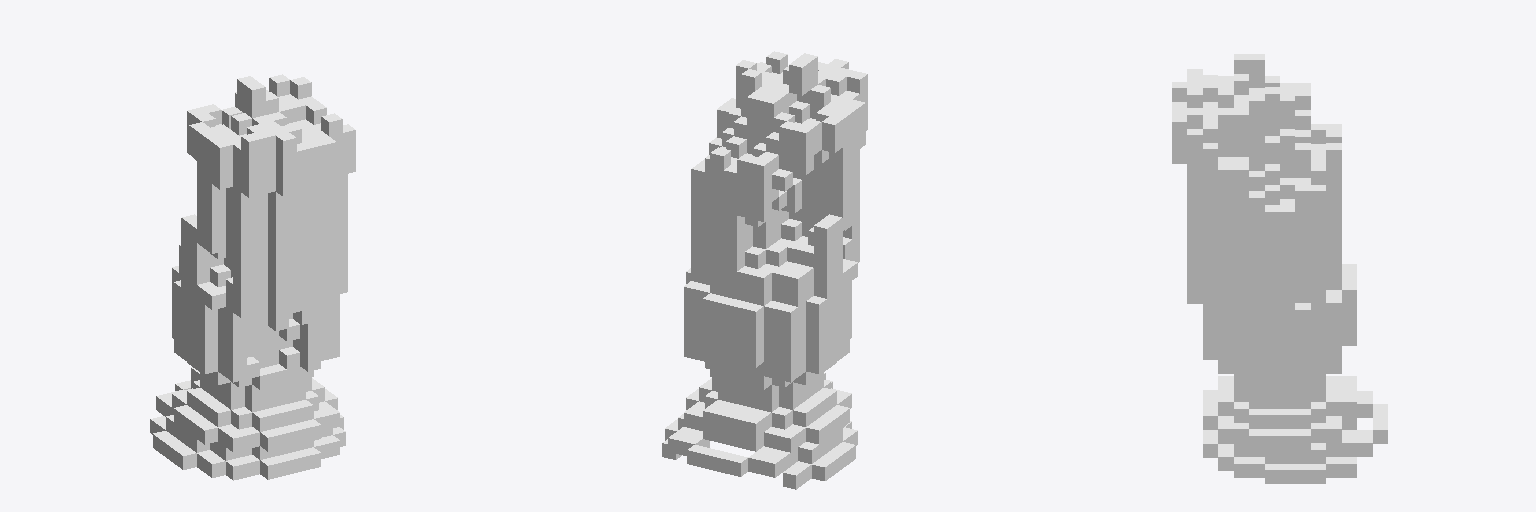
Rendered from spaceship_destroy_04obj.vox.obj.
3 renders of one model, left to right at view 1: azimuth 30°, elevation 25°; view 2: azimuth 150°, elevation 25°; view 3: azimuth 270°, elevation 25°, orthographic.
Parts seen in each view (by area): view 1: object 1; view 2: object 1; view 3: object 1.
Part boxes in pixels (left/top/right/bottom): object 1: left=150, top=74, right=355, bottom=480; object 1: left=662, top=51, right=867, bottom=489; object 1: left=1172, top=54, right=1387, bottom=483.
Bounding box in the file's own units: 1.2 × 2.7 × 1.4.